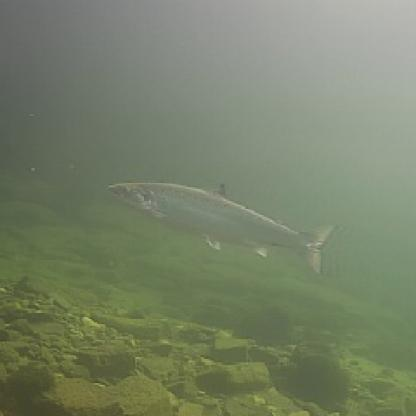salmon: (99, 171, 338, 274)
